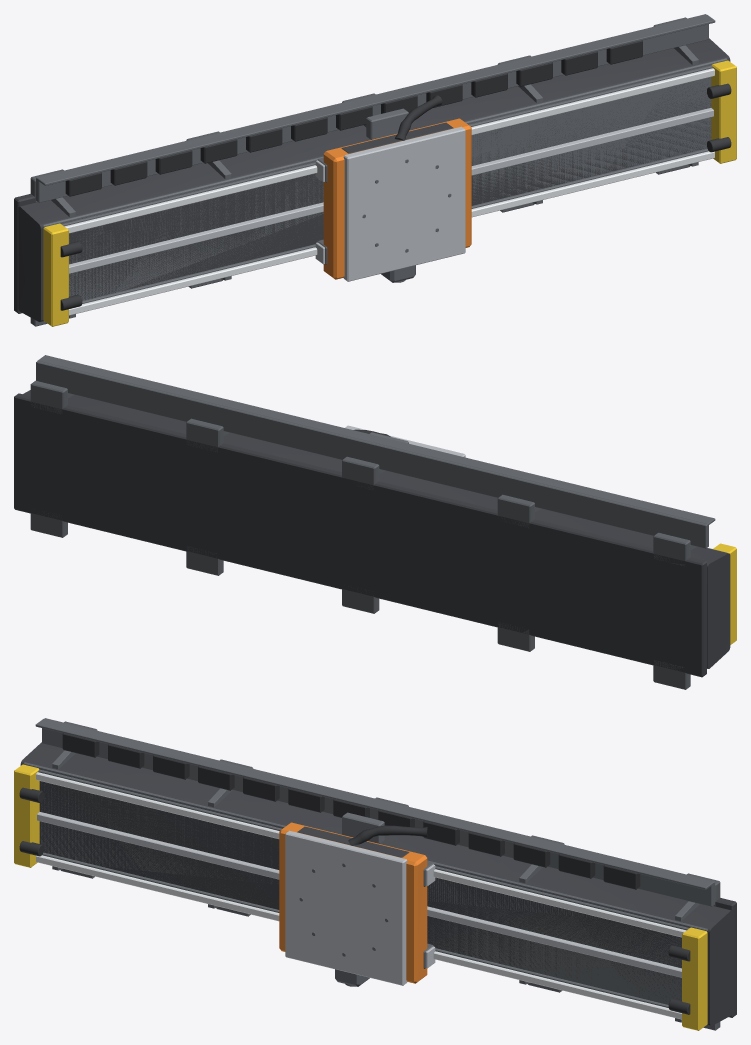
Rendered from rail.glb.
3 renders of one model, top to bottom at view 1: azimuth 30°, elevation 25°; view 2: azimuth 150°, elevation 25°; view 3: azimuth 330°, elevation 25°, orthographic.
Parts seen in each view (by area): view 1: static, carriage; view 2: static; view 3: static, carriage.
Boxes of the visible parts, x1,y1,x2,y2 form: static: (14,14,736,326); carriage: (315,95,471,282); static: (14,355,736,689); static: (14,718,736,1030); carriage: (279,812,435,986).
Size of the model in its own units: 2.9 by 0.6613 by 0.358.
